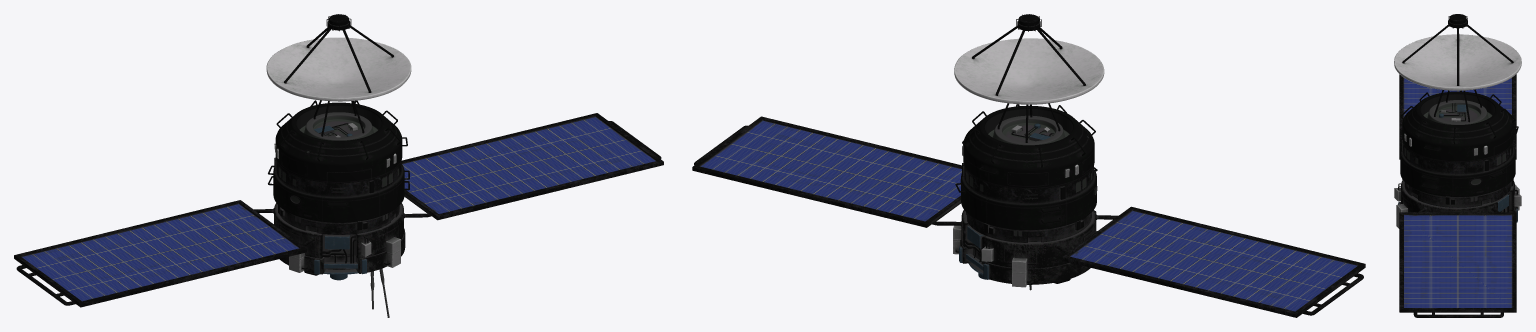
Rendered from satellite.glb.
The picture shows the model from 3 angles, left to right: view 1: azimuth 30°, elevation 25°; view 2: azimuth 150°, elevation 25°; view 3: azimuth 270°, elevation 25°; orthographic projection. The views are drawn at different scales.
Parts seen in each view (by area): view 1: node_id30; view 2: node_id30; view 3: node_id30.
Part boxes in pixels (x1,y1,x2,y2): node_id30: [14, 14, 663, 317]; node_id30: [692, 14, 1365, 317]; node_id30: [1394, 14, 1521, 317].
Bounding box in the file's own units: 0.00512 × 0.00235 × 0.00108.
Materials: 1 (1 with a texture image).
